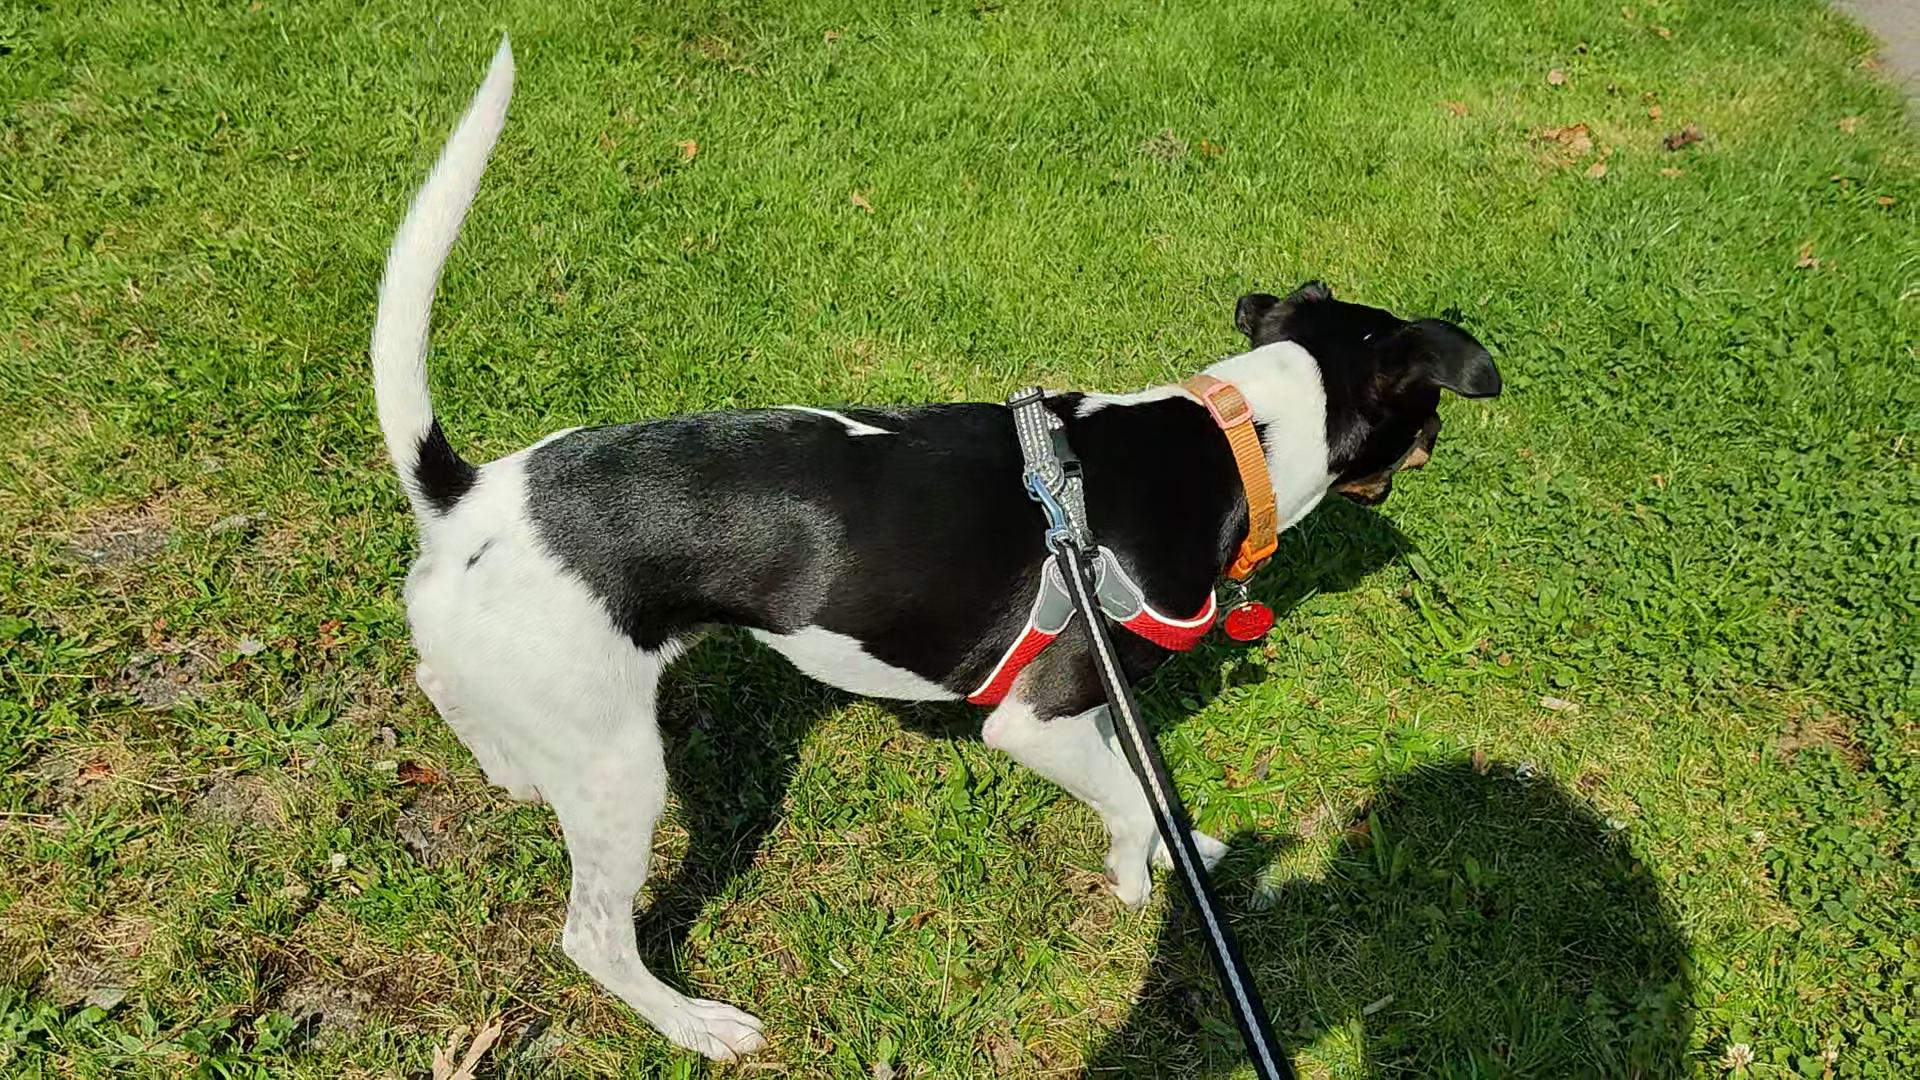Dog: (356, 22, 1506, 1065)
